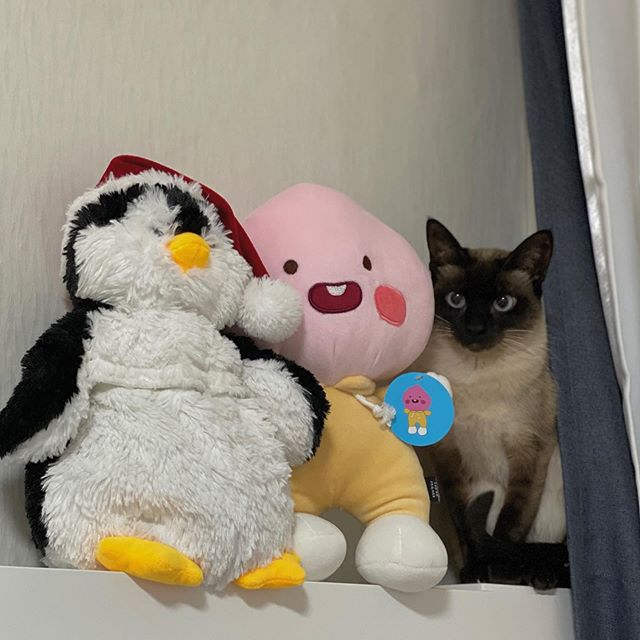cat: (417, 218, 556, 368)
